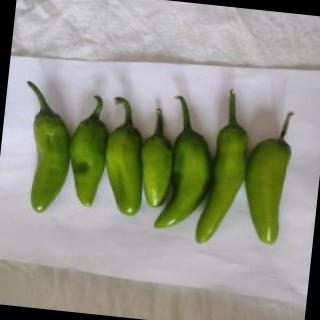Cabai Hijau: (237, 104, 306, 254), (9, 76, 80, 217), (96, 96, 156, 221)
